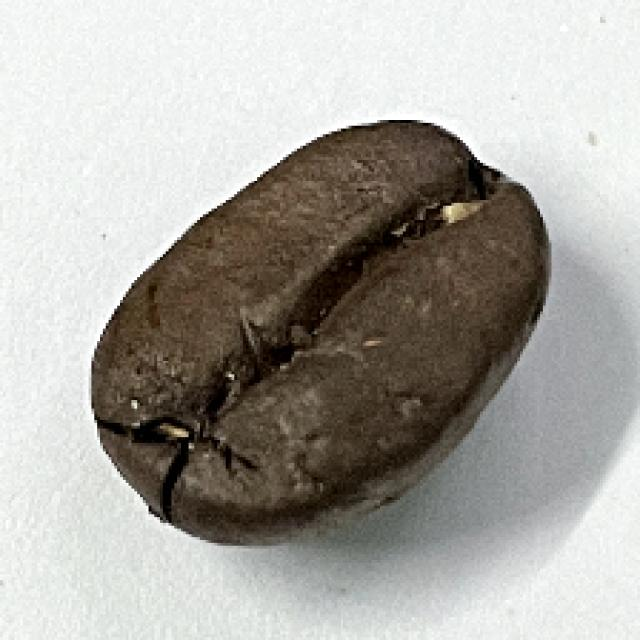bean: (86, 116, 553, 550)
